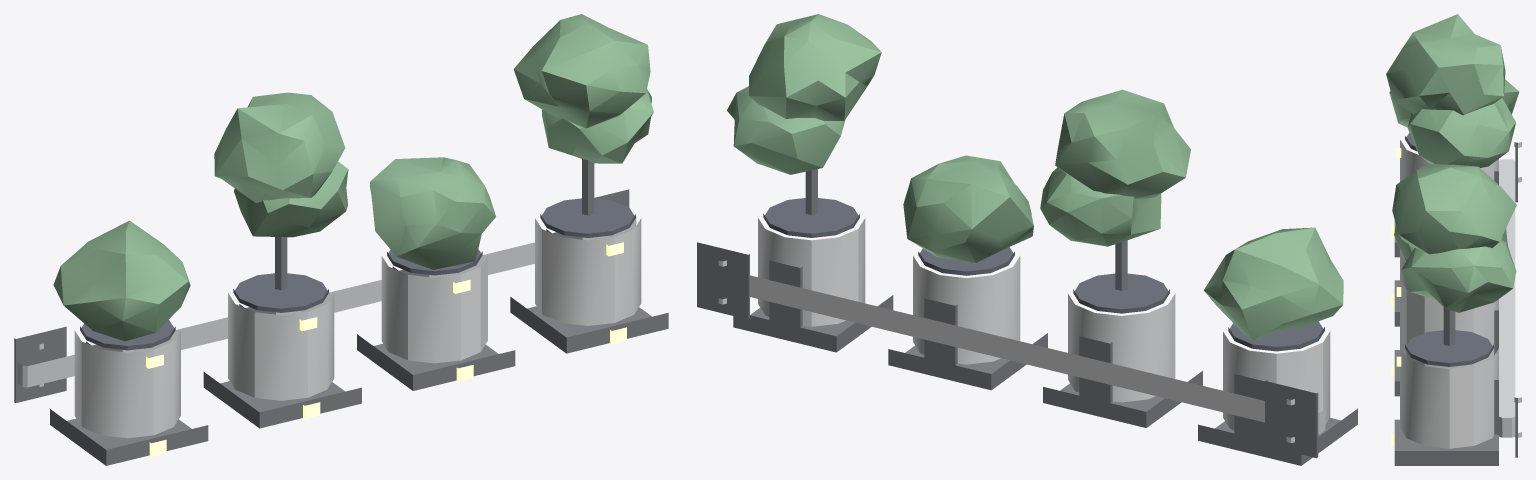
File: potted_plants_rail_cradles.glb
The picture shows the model from 3 angles, left to right: view 1: azimuth 30°, elevation 25°; view 2: azimuth 150°, elevation 25°; view 3: azimuth 270°, elevation 25°; orthographic projection. The views are drawn at different scales.
Visible parts, largest first — view 1: Foliage, Pots, Cradles, Grow_Lids, Wall_Rail, Wall_Plates, Stems, Cradle_Latches, Pot_Latches; view 2: Foliage, Pots, Wall_Rail, Cradles, Grow_Lids, Wall_Plates, Cradle_Hooks, Stems; view 3: Foliage, Pots, Wall_Rail, Cradles, Grow_Lids, Cradle_Hooks, Stems, Wall_Plates, Cradle_Latches, Pot_Latches.
Part boxes in pixels (x1,y1,x2,y2): Foliage: (53, 14, 653, 341); Pots: (74, 218, 641, 438); Cradles: (50, 297, 668, 465); Grow_Lids: (80, 198, 635, 350); Wall_Rail: (17, 216, 636, 387); Wall_Plates: (14, 189, 629, 402); Stems: (275, 159, 594, 290); Cradle_Latches: (149, 327, 626, 456); Pot_Latches: (146, 242, 623, 368); Foliage: (727, 14, 1343, 340); Pots: (758, 218, 1330, 430); Wall_Rail: (750, 275, 1325, 434); Cradles: (733, 295, 1357, 465); Grow_Lids: (763, 198, 1324, 351); Wall_Plates: (697, 242, 1318, 458); Cradle_Hooks: (769, 260, 1267, 440); Stems: (805, 169, 1127, 290); Foliage: (1386, 14, 1519, 312); Pots: (1400, 140, 1498, 448); Wall_Rail: (1499, 159, 1515, 437); Cradles: (1394, 220, 1498, 465); Grow_Lids: (1405, 132, 1493, 366); Cradle_Hooks: (1494, 171, 1498, 434); Stems: (1443, 307, 1455, 345); Wall_Plates: (1515, 142, 1517, 457); Cradle_Latches: (1391, 225, 1394, 446); Pot_Latches: (1396, 148, 1401, 366).
Bounding box in the file's own units: 1.2 × 0.5533 × 0.2475.
